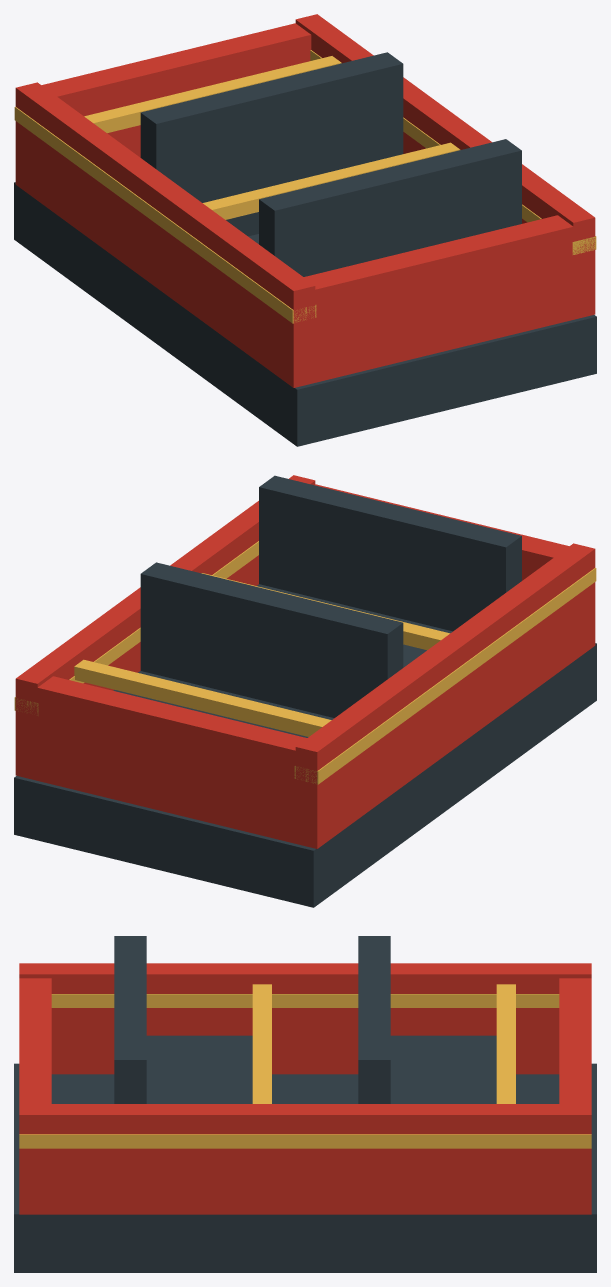
The model's file is coaster-car.glb.
The picture shows the model from 3 angles, top to bottom: view 1: azimuth 30°, elevation 25°; view 2: azimuth 150°, elevation 25°; view 3: azimuth 270°, elevation 25°; orthographic projection. The views are drawn at different scales.
Parts seen in each view (by area): view 1: coaster-car; view 2: coaster-car; view 3: coaster-car.
Part boxes in pixels (left/top/right/bottom): coaster-car: left=14, top=14, right=596, bottom=446; coaster-car: left=14, top=475, right=596, bottom=907; coaster-car: left=14, top=936, right=596, bottom=1272.
Size of the model in its own units: 1.67 by 1.02 by 2.7.
